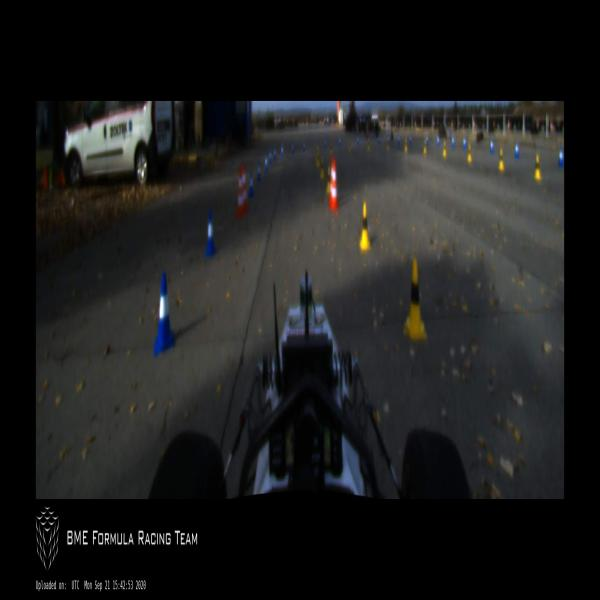blue_cone: (154, 272, 174, 354), (205, 212, 215, 255), (249, 172, 254, 197), (514, 142, 520, 156), (559, 146, 563, 166), (257, 162, 261, 181), (264, 154, 268, 170), (280, 143, 284, 158), (490, 137, 493, 152), (269, 150, 272, 164), (303, 140, 306, 152), (324, 138, 327, 149), (426, 136, 429, 146), (463, 138, 466, 148), (292, 141, 294, 155), (409, 135, 412, 144), (274, 148, 276, 159), (398, 135, 400, 146), (437, 134, 439, 145), (339, 136, 341, 146), (378, 134, 380, 144), (452, 136, 454, 146), (358, 136, 360, 144)
large_orange_cone: (331, 162, 339, 209), (237, 169, 243, 220), (242, 164, 248, 211)
yellow_cone: (404, 260, 427, 340), (360, 203, 370, 251), (534, 153, 542, 179), (498, 147, 505, 171), (326, 167, 331, 194), (467, 142, 472, 162), (320, 159, 325, 179), (442, 139, 446, 158), (316, 151, 320, 168), (315, 145, 319, 161), (404, 137, 407, 153), (348, 139, 351, 154), (367, 138, 370, 151), (424, 140, 426, 154), (330, 142, 332, 154), (387, 140, 389, 152)
